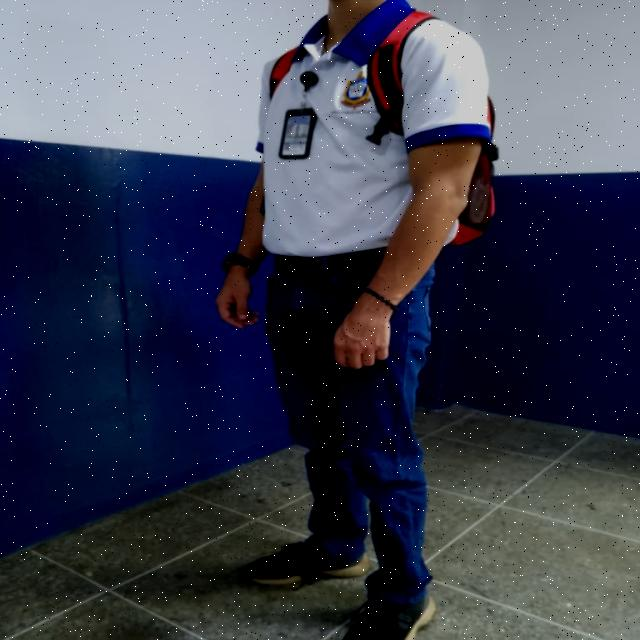carnet: (282, 116, 310, 155)
pantalon_oscuro: (264, 266, 434, 605)
uniforme_superior: (255, 0, 491, 257)
